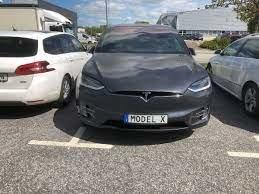license-plates: (128, 115, 168, 124)
